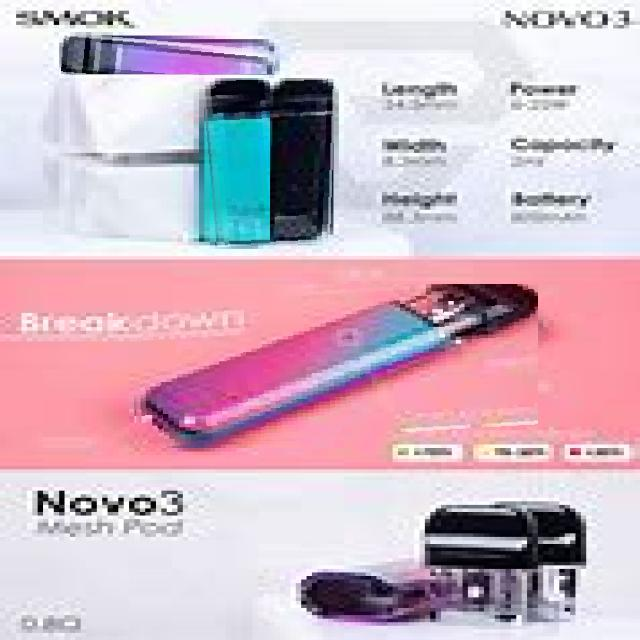Vapes: (129, 284, 538, 448), (202, 80, 270, 247), (270, 78, 336, 246), (61, 32, 276, 74)
